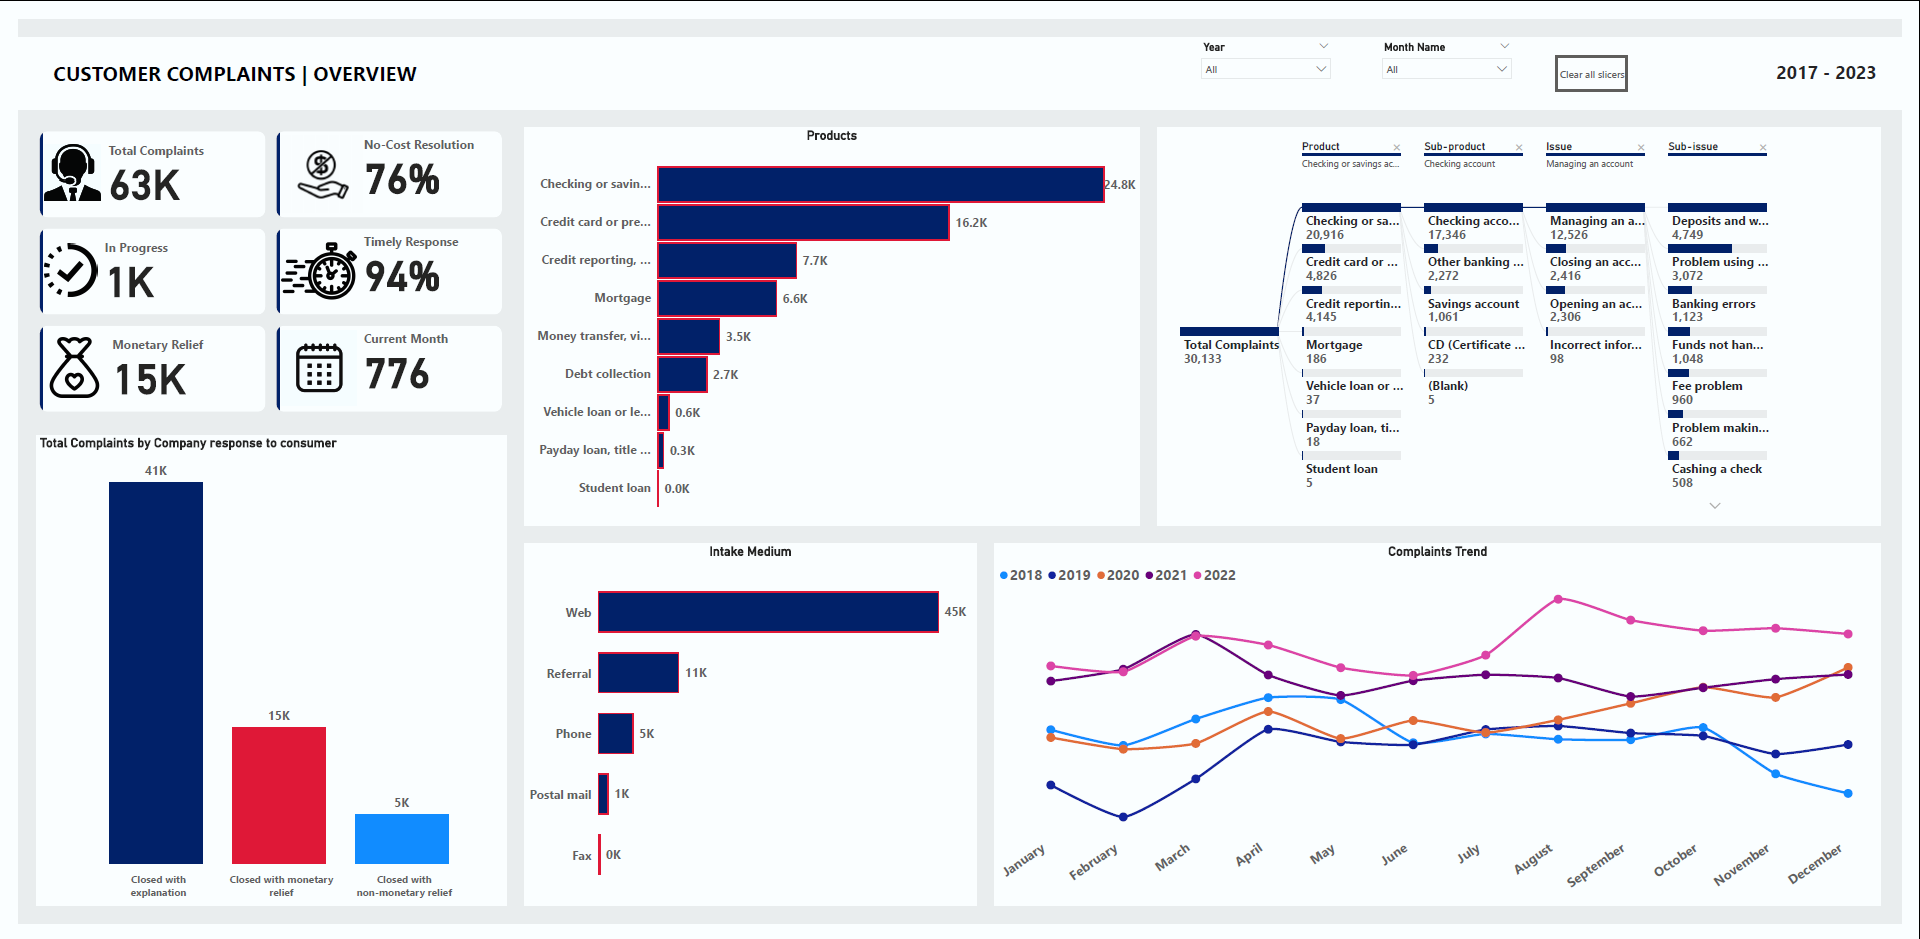

The page's visual inventory and layout, read from the dashboard file:
{"tool":"powerbi","page":{"name":"Overview","canvas":[2500,1200],"ordinal":0},"visuals":[{"type":"shape","box":[0,0,2500,96],"z":0},{"type":"textbox","box":[24,24,528,48],"z":1000},{"type":"textbox","box":[2304,24,192,48],"z":2000},{"type":"cardVisual","fields":{"Data":["Data.Total Complaints","Data.InProgressCount","Data.ClosedWithMonetaryRelief","Data.ResolvedAtNoCost Percentage","Data.TimelyResponsePercentage","Data.Current Month Total"]},"box":[24,144,624,384],"z":3000},{"type":"barChart","title":"Intake Medium","fields":{"Y":["Data.Total Complaints"],"Category":["Data.Submitted via"]},"box":[672,696,600,480],"z":4000},{"type":"clusteredBarChart","title":"Products","fields":{"Category":["Data.Product"],"Y":["Data.Total Complaints"]},"box":[672,144,816,528],"z":5000},{"type":"slicer","fields":{"Values":["Data.Year"]},"box":[1560,0,192,96],"z":6000},{"type":"slicer","fields":{"Values":["Data.Month Name"]},"box":[1800,0,192,96],"z":7000},{"type":"actionButton","box":[2040,24,96,48],"z":8000},{"type":"clusteredColumnChart","fields":{"Category":["Data.Company response to consumer"],"Y":["Data.Total Complaints"]},"box":[24,552,624,624],"z":9000},{"type":"decompositionTreeVisual","fields":{"ExplainBy":["Data.Product","Data.Sub-product","Data.Issue","Data.Sub-issue"],"Analyze":["Data.Total Complaints"]},"box":[1512,144,960,528],"z":10000},{"type":"lineChart","title":"Complaints Trend","fields":{"Category":["Data.Month Name"],"Y":["Data.Total Complaints"],"Series":["Data.Year"]},"box":[1296,696,1176,480],"z":11000}]}

Visuals, with their boxes in screenshot pixels (x1, y1, x2, y2), scaled from the page's 2500x1200 canvas onto the 1920x939 screenshot:
shape: [x1=0, y1=0, x2=1919, y2=75]
textbox: [x1=18, y1=19, x2=424, y2=56]
textbox: [x1=1769, y1=19, x2=1917, y2=56]
cardVisual - Data.Total Complaints x Data.InProgressCount: [x1=18, y1=113, x2=498, y2=413]
"Intake Medium" barChart: [x1=516, y1=545, x2=977, y2=920]
"Products" clusteredBarChart: [x1=516, y1=113, x2=1143, y2=526]
slicer - Data.Year: [x1=1198, y1=0, x2=1346, y2=75]
slicer - Data.Month Name: [x1=1382, y1=0, x2=1530, y2=75]
actionButton: [x1=1567, y1=19, x2=1640, y2=56]
clusteredColumnChart - Data.Company response to consumer x Data.Total Complaints: [x1=18, y1=432, x2=498, y2=920]
decompositionTreeVisual - Data.Product x Data.Sub-product: [x1=1161, y1=113, x2=1898, y2=526]
"Complaints Trend" lineChart: [x1=995, y1=545, x2=1898, y2=920]
